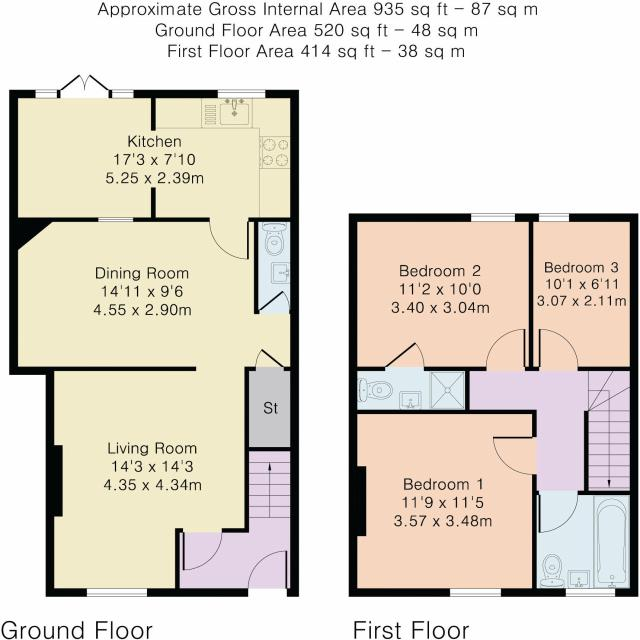DOOR: (246, 549, 289, 597), (537, 490, 581, 534), (537, 328, 580, 371), (181, 528, 224, 571), (485, 328, 527, 372), (492, 435, 537, 476), (208, 217, 250, 260), (383, 340, 426, 371), (258, 289, 291, 314)
DOUBLE DOOR: (59, 68, 114, 98)
ROOM: (8, 217, 300, 598), (9, 73, 299, 261), (348, 409, 537, 597), (348, 213, 534, 372), (528, 213, 640, 371)
WINDOW: (86, 588, 148, 598), (564, 588, 617, 598), (449, 587, 502, 597), (217, 89, 266, 99), (470, 213, 516, 223), (538, 213, 570, 223), (34, 89, 58, 99), (112, 89, 134, 99), (98, 217, 134, 222)
